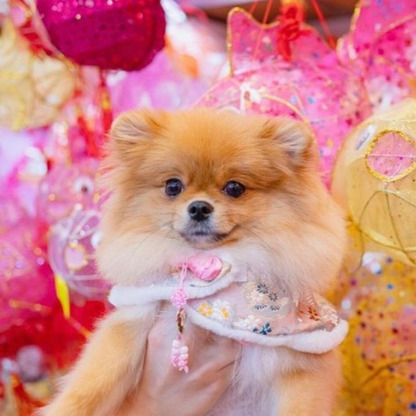Pomeranian: (82, 94, 364, 406)
